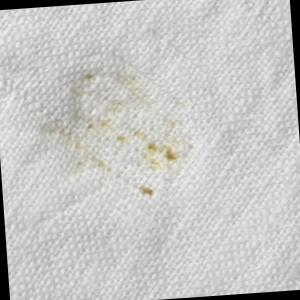Oil Stain: (39, 63, 200, 211)
